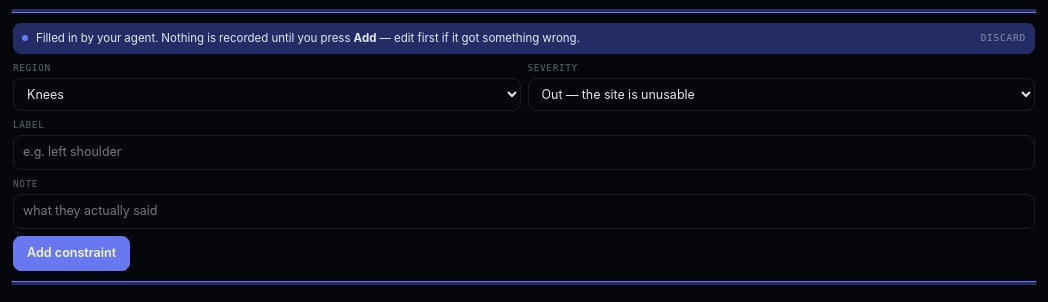
Scenario: ConstraintForm — a fill staged by the code-defined tool › Discard clears the stage and the form without recording anything
What coordinates should you click on to do the following:
click the button "Discard"
I would click on:
 (1003, 38)
Its box is [981, 32, 1026, 45].
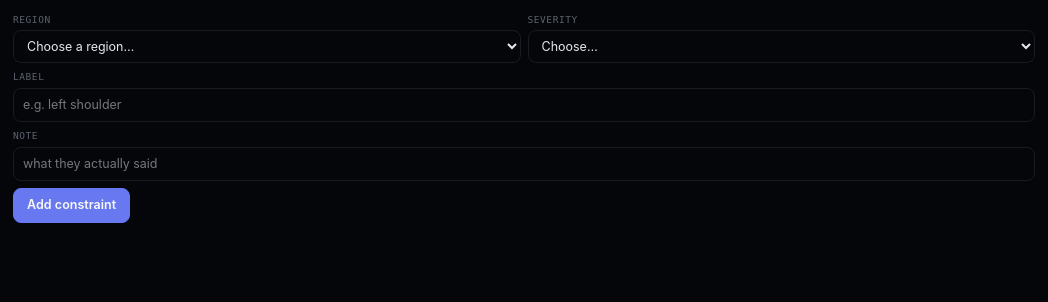
Check: the message is gone
Check: the dropdown named "region" shows "Choose a region…", box [13, 30, 520, 63]
